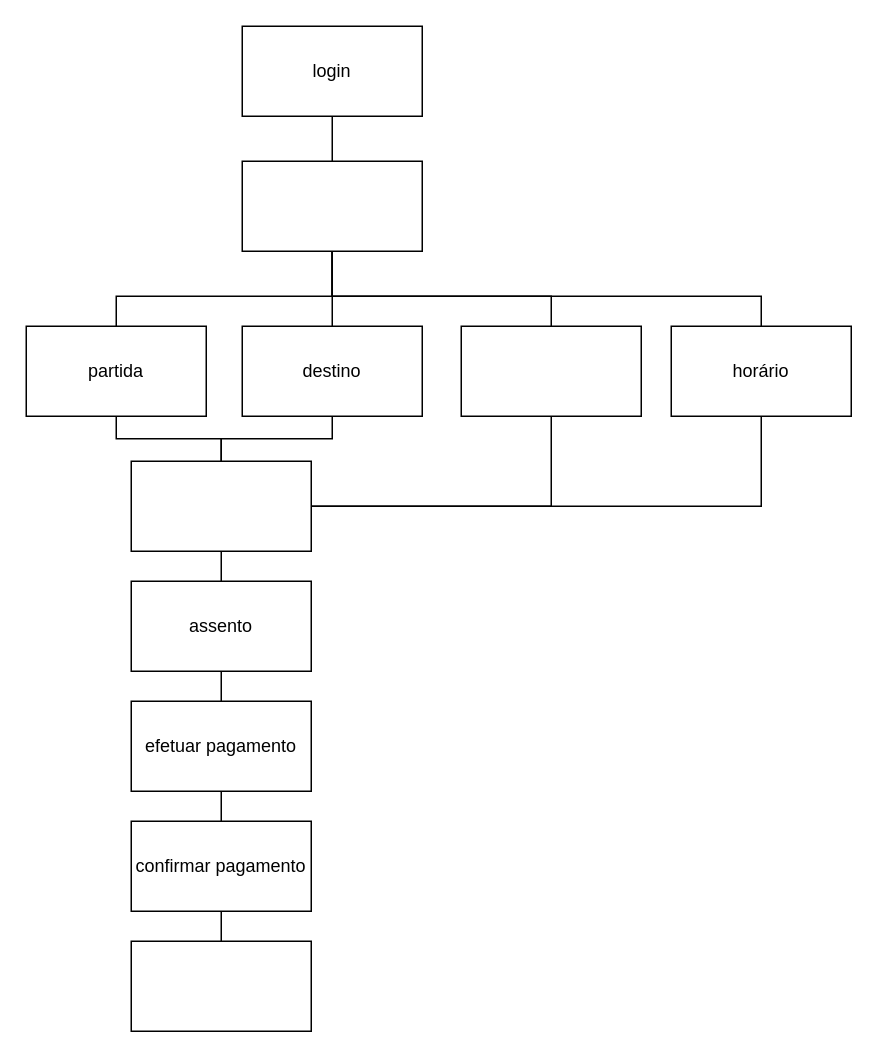
Image size: 878x1058. Some labels were removed from this diagram. The box of each missing label's shape, as (x1, y1, x2, y2) in pixels:
data: (460, 325, 641, 416)
emissão da passagem: (130, 940, 311, 1031)
onibus disponivel: (130, 460, 311, 551)
requisitos da viagem: (241, 160, 422, 251)
